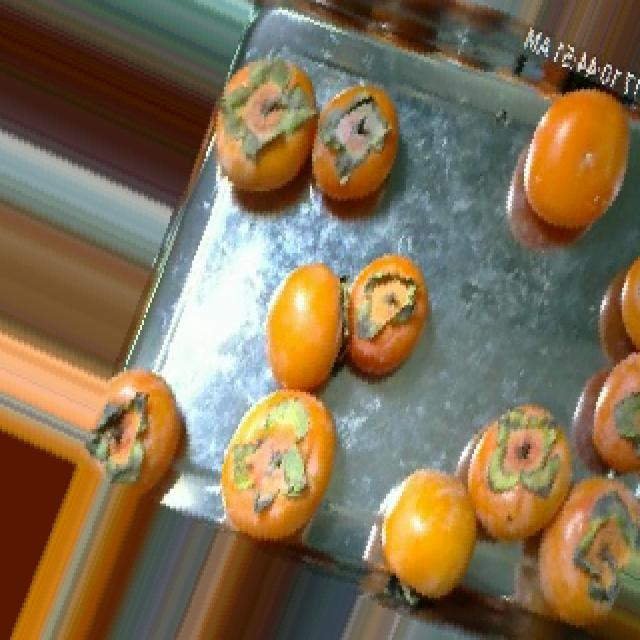Fruit: (200, 370, 372, 580), (492, 62, 640, 283), (354, 447, 504, 622), (342, 236, 450, 402), (246, 246, 344, 427), (584, 240, 640, 374)
